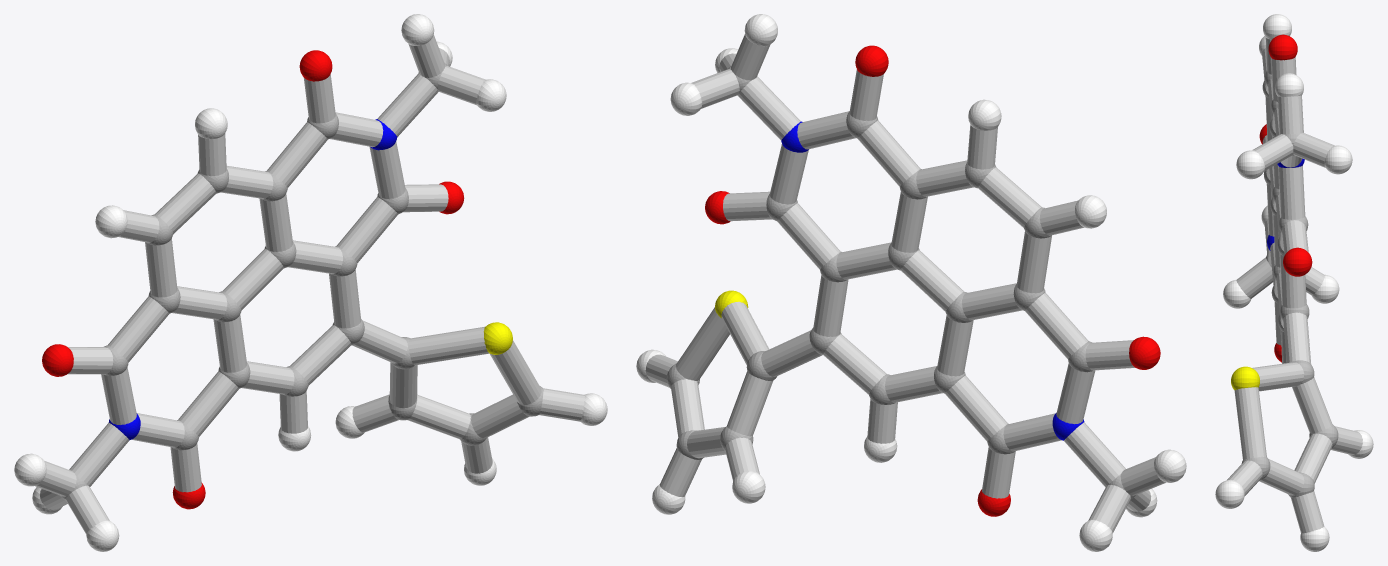
The model's file is Dimethyl_Naphthalene_Dicarboximide_Phi_15_Theta_220_Thiophene.glb.
3 renders of one model, left to right at view 1: azimuth 30°, elevation 25°; view 2: azimuth 150°, elevation 25°; view 3: azimuth 270°, elevation 25°, orthographic. The views are drawn at different scales.
Parts seen in each view (by area): view 1: grp14119, grp7241, grp1, grp12309, grp13757, grp11585; view 2: grp14119, grp7241, grp1, grp12309, grp11585; view 3: grp14119, grp7241, grp1, grp12309, grp13757.
Part boxes in pixels (x1,y1,x2,y2): grp14119: (35, 34, 584, 534); grp7241: (14, 14, 607, 551); grp1: (60, 63, 543, 500); grp12309: (42, 50, 464, 509); grp13757: (483, 322, 512, 354); grp11585: (108, 119, 397, 440); grp14119: (645, 34, 1165, 532); grp7241: (636, 14, 1186, 551); grp1: (667, 66, 1135, 499); grp12309: (705, 45, 1160, 516); grp11585: (781, 121, 1084, 440); grp14119: (1227, 37, 1362, 533); grp7241: (1215, 14, 1373, 551); grp1: (1241, 71, 1338, 497); grp12309: (1259, 34, 1312, 362); grp13757: (1231, 366, 1259, 390).
Bounding box in the file's own units: 11.85 × 10.02 × 3.24.
